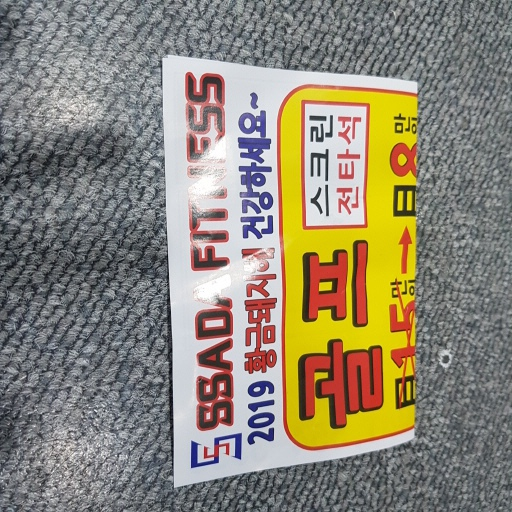Paper_2: (147, 49, 439, 482)
